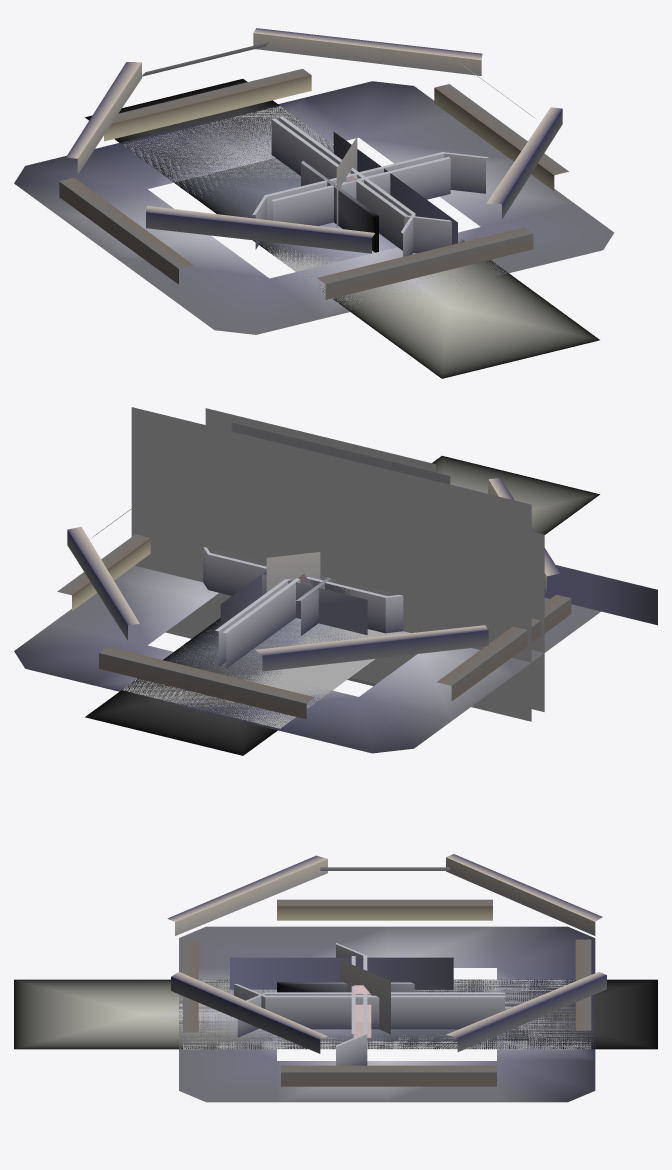
The model's file is arena_survivor_series.glb.
The picture shows the model from 3 angles, top to bottom: view 1: azimuth 30°, elevation 25°; view 2: azimuth 150°, elevation 25°; view 3: azimuth 270°, elevation 25°; orthographic projection. The views are drawn at different scales.
Visible parts, largest first — view 1: 0x5c3_Arena_Survivor_Series_Bottom_Right_Side_of_the_Back_st, 0x55b_Arena_Normal_Match_Outside_Floormats_Four_Corner_Secti, 0x55a_Arena_Back_Rafter_Sign_Polygon, 0x55d_Arena_Normal_Match_Ring_Mat_Polygon, 0x55e_Arena_Scaffolding_Piece_1_Polygon, 0x5b9_Arena_Survivor_Series_Stage_Section_Fartherest_Back, 0x551_Arena_Right_Barricade_Lower_Side_Polygon, 0x54f_Arena_Right_Aisle_Barricade_Polygon, 0x553_Arena_Front_Barricade_Right_Side_Polygon, 0x54e_Arena_Left_Aisle_Barricade_Polygon, 0x5ba_Arena_Survivor_Series_Rampway_Aisle_to_ring, 0x556_Arena_Left_Barricade_Upper_Side_Polygon (+5 smaller); view 2: 0x5bd_Arena_Survivor_Series_Bottom_of_the_Front_Structure, 0x5be_Arena_Survivor_Series_Top_of_the_Middle_Strucuture, 0x55b_Arena_Normal_Match_Outside_Floormats_Four_Corner_Secti, 0x5c3_Arena_Survivor_Series_Bottom_Right_Side_of_the_Back_st, 0x55d_Arena_Normal_Match_Ring_Mat_Polygon, 0x55a_Arena_Back_Rafter_Sign_Polygon, 0x55e_Arena_Scaffolding_Piece_1_Polygon, 0x5b9_Arena_Survivor_Series_Stage_Section_Fartherest_Back, 0x5ba_Arena_Survivor_Series_Rampway_Aisle_to_ring, 0x552_Arena_Right_Barricade_Upper_Side_Polygon, 0x560_Arena_Scaffolding_Piece_3_Polygon, 0xaa8_Stage_RAW (+9 smaller); view 3: 0x5c3_Arena_Survivor_Series_Bottom_Right_Side_of_the_Back_st, 0x55b_Arena_Normal_Match_Outside_Floormats_Four_Corner_Secti, 0x55a_Arena_Back_Rafter_Sign_Polygon, 0x55e_Arena_Scaffolding_Piece_1_Polygon, 0x55d_Arena_Normal_Match_Ring_Mat_Polygon, 0x5ba_Arena_Survivor_Series_Rampway_Aisle_to_ring, 0x554_Arena_Front_Barricade_Left_Side_Polygon, 0x555_Arena_Left_Barricade_Lower_Side_Polygon, 0x5b9_Arena_Survivor_Series_Stage_Section_Fartherest_Back, 0x559_Arena_Front_Rafter_Sign_Polygon, 0x54e_Arena_Left_Aisle_Barricade_Polygon, 0x553_Arena_Front_Barricade_Right_Side_Polygon (+3 smaller).
Boxes of the visible parts, x1,y1,x2,y2 form: 0x5c3_Arena_Survivor_Series_Bottom_Right_Side_of_the_Back_st: (85,79,599,378); 0x55b_Arena_Normal_Match_Outside_Floormats_Four_Corner_Secti: (53,98,574,318); 0x55a_Arena_Back_Rafter_Sign_Polygon: (14,81,614,334); 0x55d_Arena_Normal_Match_Ring_Mat_Polygon: (59,68,568,299); 0x55e_Arena_Scaffolding_Piece_1_Polygon: (66,28,562,253); 0x5b9_Arena_Survivor_Series_Stage_Section_Fartherest_Back: (123,106,364,308); 0x551_Arena_Right_Barricade_Lower_Side_Polygon: (271,118,451,253); 0x54f_Arena_Right_Aisle_Barricade_Polygon: (271,170,391,226); 0x553_Arena_Front_Barricade_Right_Side_Polygon: (273,152,488,195); 0x54e_Arena_Left_Aisle_Barricade_Polygon: (301,161,378,252); 0x5ba_Arena_Survivor_Series_Rampway_Aisle_to_ring: (333,132,457,244); 0x556_Arena_Left_Barricade_Upper_Side_Polygon: (330,157,450,199); 0x5bd_Arena_Survivor_Series_Bottom_of_the_Front_Structure: (131,407,531,673); 0x5be_Arena_Survivor_Series_Top_of_the_Middle_Strucuture: (131,458,531,721); 0x55b_Arena_Normal_Match_Outside_Floormats_Four_Corner_Secti: (53,565,574,736); 0x5c3_Arena_Survivor_Series_Bottom_Right_Side_of_the_Back_st: (85,456,599,755); 0x55d_Arena_Normal_Match_Ring_Mat_Polygon: (57,534,571,719); 0x55a_Arena_Back_Rafter_Sign_Polygon: (14,598,600,753); 0x55e_Arena_Scaffolding_Piece_1_Polygon: (67,478,560,671); 0x5b9_Arena_Survivor_Series_Stage_Section_Fartherest_Back: (122,618,410,728); 0x5ba_Arena_Survivor_Series_Rampway_Aisle_to_ring: (220,565,657,625); 0x552_Arena_Right_Barricade_Upper_Side_Polygon: (212,554,403,633); 0x560_Arena_Scaffolding_Piece_3_Polygon: (262,574,367,635); 0xaa8_Stage_RAW: (231,423,450,686); 0x5c3_Arena_Survivor_Series_Bottom_Right_Side_of_the_Back_st: (14,979,657,1049); 0x55b_Arena_Normal_Match_Outside_Floormats_Four_Corner_Secti: (179,926,595,1102); 0x55a_Arena_Back_Rafter_Sign_Polygon: (179,926,595,1102); 0x55e_Arena_Scaffolding_Piece_1_Polygon: (167,854,606,1053); 0x55d_Arena_Normal_Match_Ring_Mat_Polygon: (183,899,591,1086); 0x5ba_Arena_Survivor_Series_Rampway_Aisle_to_ring: (230,957,453,989); 0x554_Arena_Front_Barricade_Left_Side_Polygon: (269,995,453,1029); 0x555_Arena_Left_Barricade_Lower_Side_Polygon: (234,984,504,1029); 0x5b9_Arena_Survivor_Series_Stage_Section_Fartherest_Back: (183,979,590,1049); 0x559_Arena_Front_Rafter_Sign_Polygon: (340,959,390,1034); 0x54e_Arena_Left_Aisle_Barricade_Polygon: (277,982,414,992); 0x553_Arena_Front_Barricade_Right_Side_Polygon: (336,957,367,1065).
Bounding box in the file's own units: 9.52 × 4.13 × 11.48.
